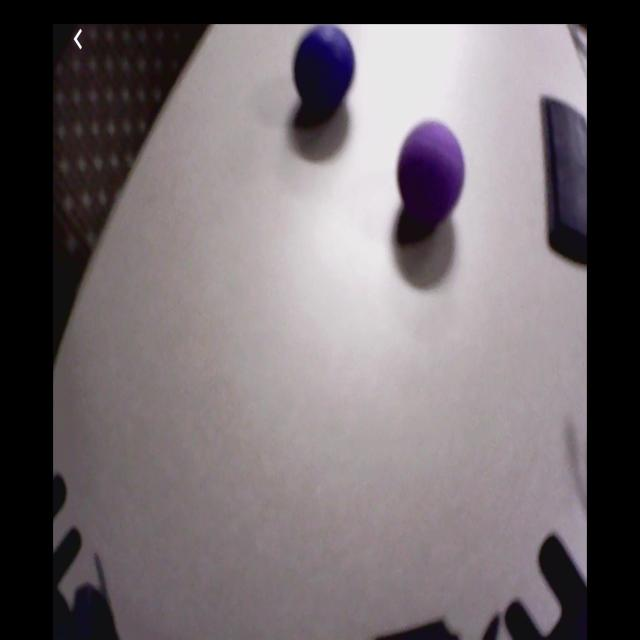ball: (400, 116, 465, 225), (297, 29, 356, 118)
